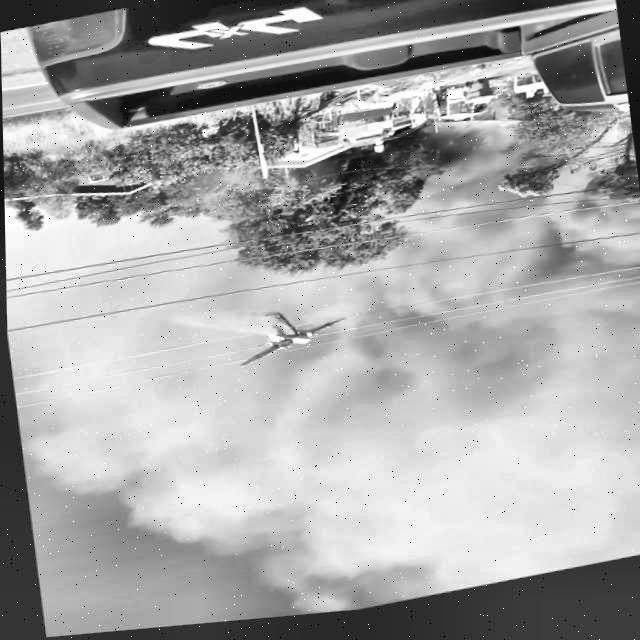Smoke: (302, 216, 640, 619)
